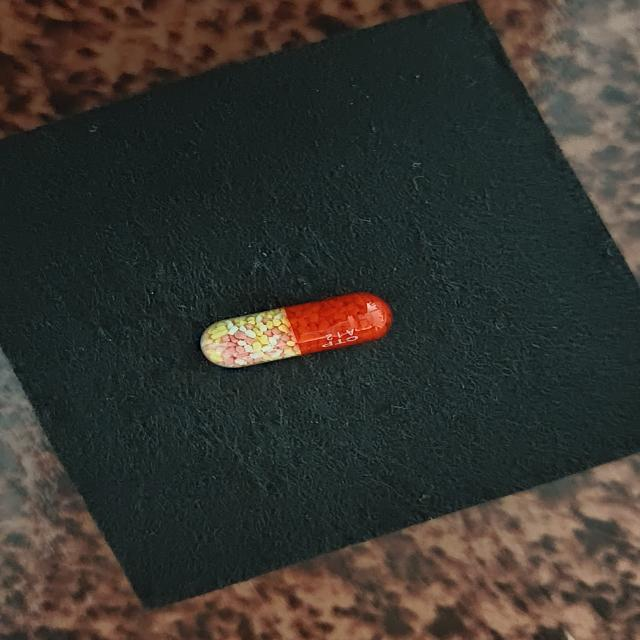Intact Capsule: (200, 292, 393, 368)
